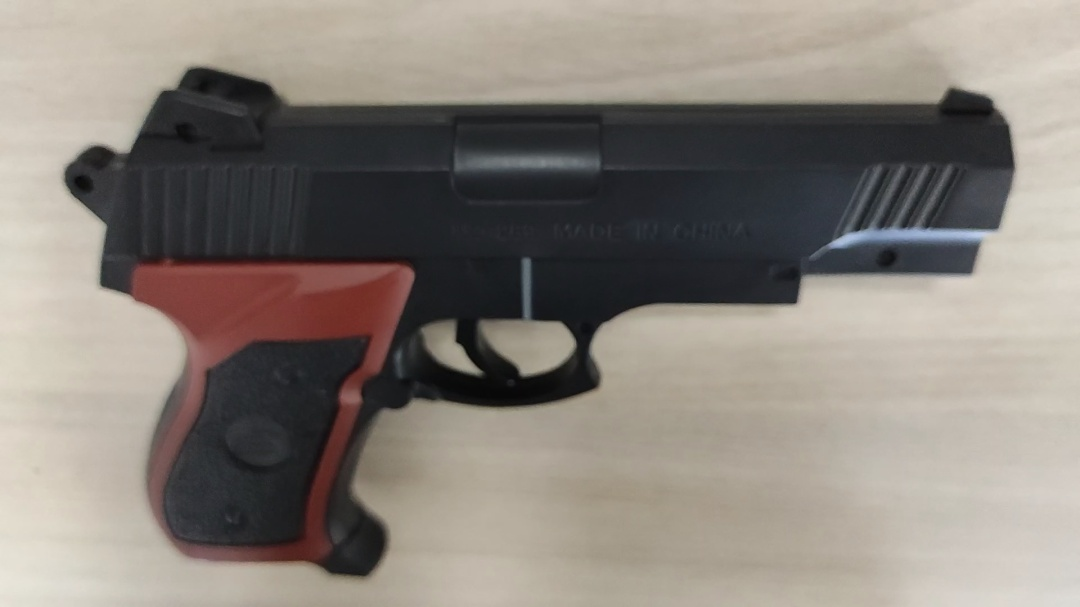gun: (493, 158, 675, 269)
